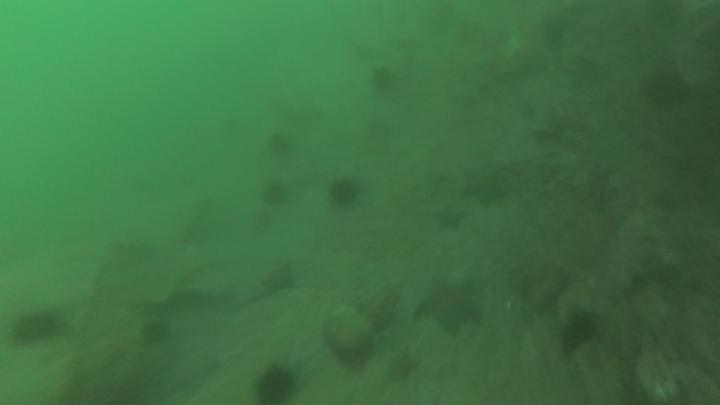echinus: (8, 311, 60, 345), (255, 373, 295, 404), (563, 317, 598, 348), (142, 318, 169, 347), (374, 70, 396, 95), (331, 183, 356, 205), (270, 135, 294, 157)
starfish: (423, 286, 481, 330), (462, 167, 507, 203), (434, 207, 465, 231), (265, 266, 293, 291)
